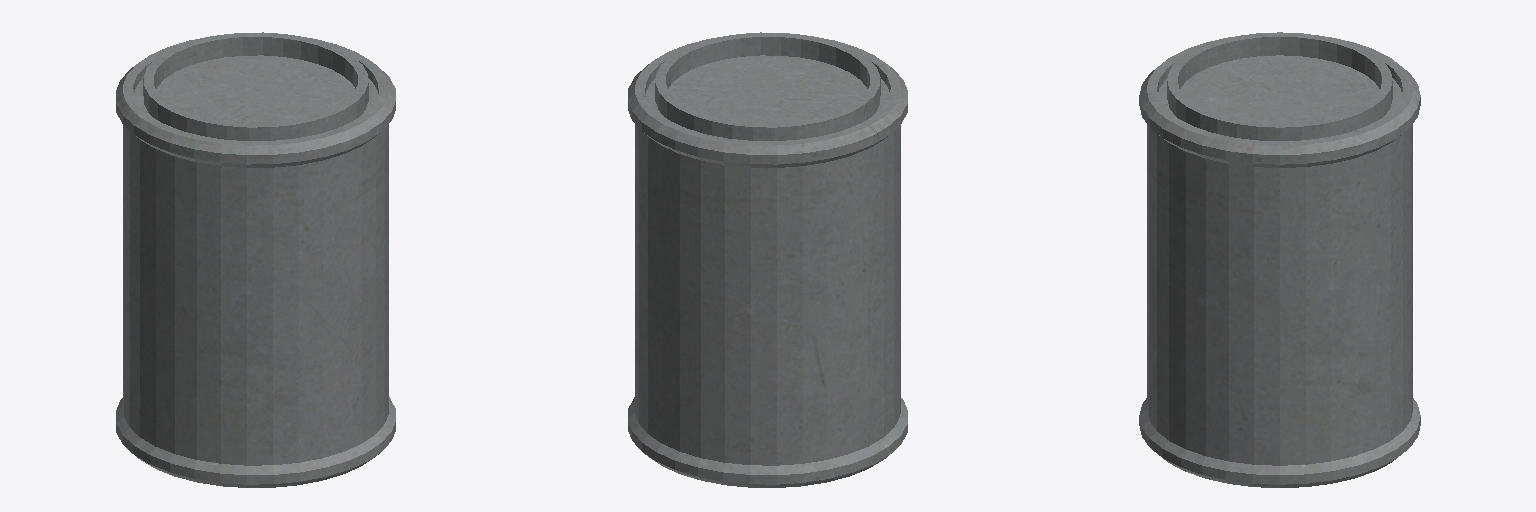
The picture shows the model from 3 angles: view 1: azimuth 30°, elevation 25°; view 2: azimuth 150°, elevation 25°; view 3: azimuth 270°, elevation 25°; orthographic projection.
Visible parts, largest first — view 1: Default; view 2: Default; view 3: Default.
Boxes of the visible parts, box(x1,y1,x2,y2) form: Default: box(116, 32, 395, 487); Default: box(628, 32, 907, 487); Default: box(1139, 32, 1420, 487).
Bounding box in the file's own units: 1.37 × 1.89 × 1.37.
1 materials, 1 textured.